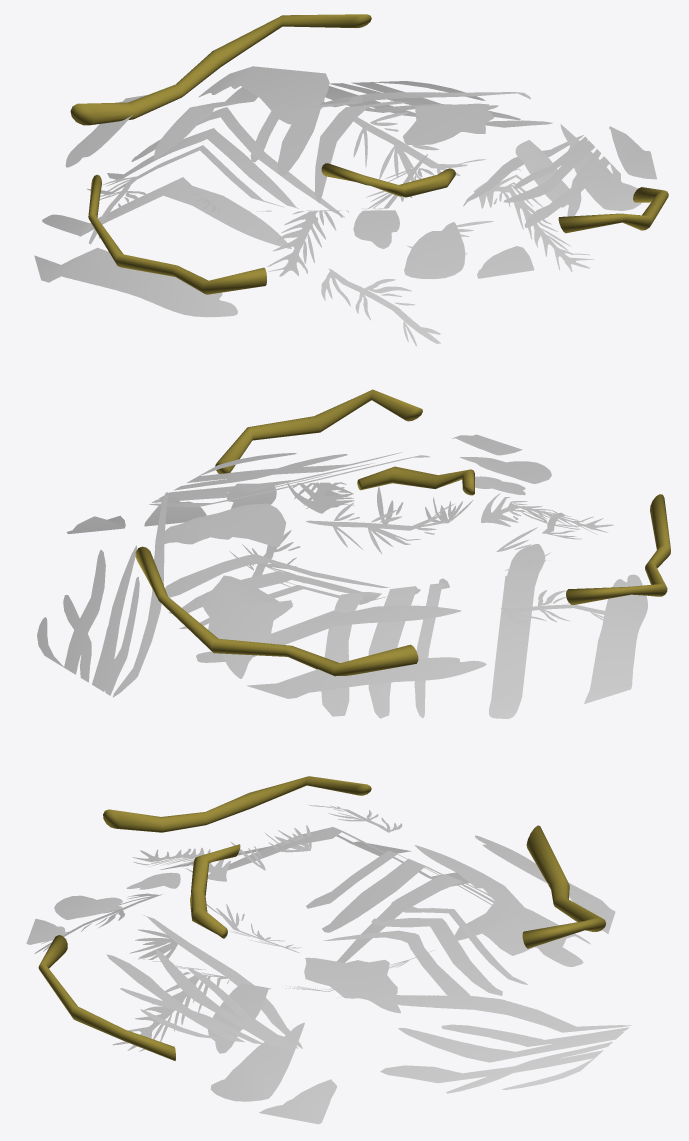
File: SM_new_nest2.fbx
The picture shows the model from 3 angles, top to bottom: view 1: azimuth 30°, elevation 25°; view 2: azimuth 150°, elevation 25°; view 3: azimuth 270°, elevation 25°; orthographic projection.
Parts seen in each view (by area): view 1: Plane, Plane.002, Cylinder.007; view 2: Plane, Plane.002, Cylinder.007; view 3: Plane, Plane.002, Cylinder.007.
Boxes of the visible parts, x1=… form: Plane: x1=34, y1=66, x2=656, y2=346; Plane.002: x1=65, y1=87, x2=620, y2=278; Cylinder.007: x1=70, y1=14, x2=668, y2=294; Plane: x1=37, y1=482, x2=647, y2=718; Plane.002: x1=148, y1=434, x2=632, y2=698; Cylinder.007: x1=135, y1=389, x2=670, y2=676; Plane: x1=34, y1=827, x2=631, y2=1124; Plane.002: x1=26, y1=804, x2=615, y2=1048; Cylinder.007: x1=38, y1=776, x2=606, y2=1060.
Bounding box in the file's own units: 80.11 × 13.47 × 77.37.
